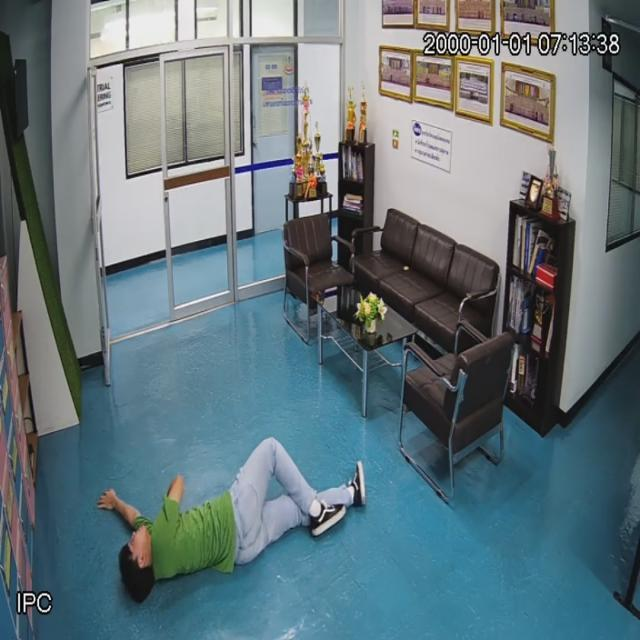fall: (103, 437, 376, 599)
